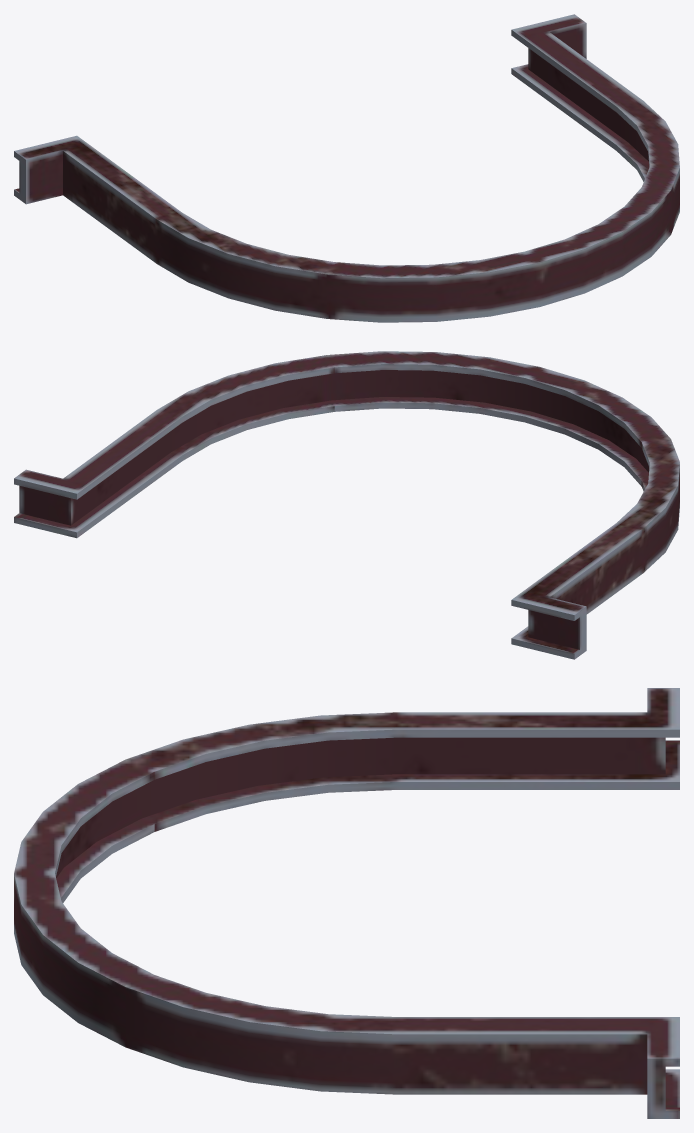
The model's file is beam_vert.fbx.
3 renders of one model, top to bottom at view 1: azimuth 30°, elevation 25°; view 2: azimuth 150°, elevation 25°; view 3: azimuth 270°, elevation 25°, orthographic. The views are drawn at different scales.
Visible parts, largest first — view 1: beam_hor_01.001; view 2: beam_hor_01.001; view 3: beam_hor_01.001.
Boxes of the visible parts, x1,y1,x2,y2 form: beam_hor_01.001: (14,14,679,322); beam_hor_01.001: (14,351,679,659); beam_hor_01.001: (14,688,679,1118).
Size of the model in its own units: 2749 by 209 by 2088.
